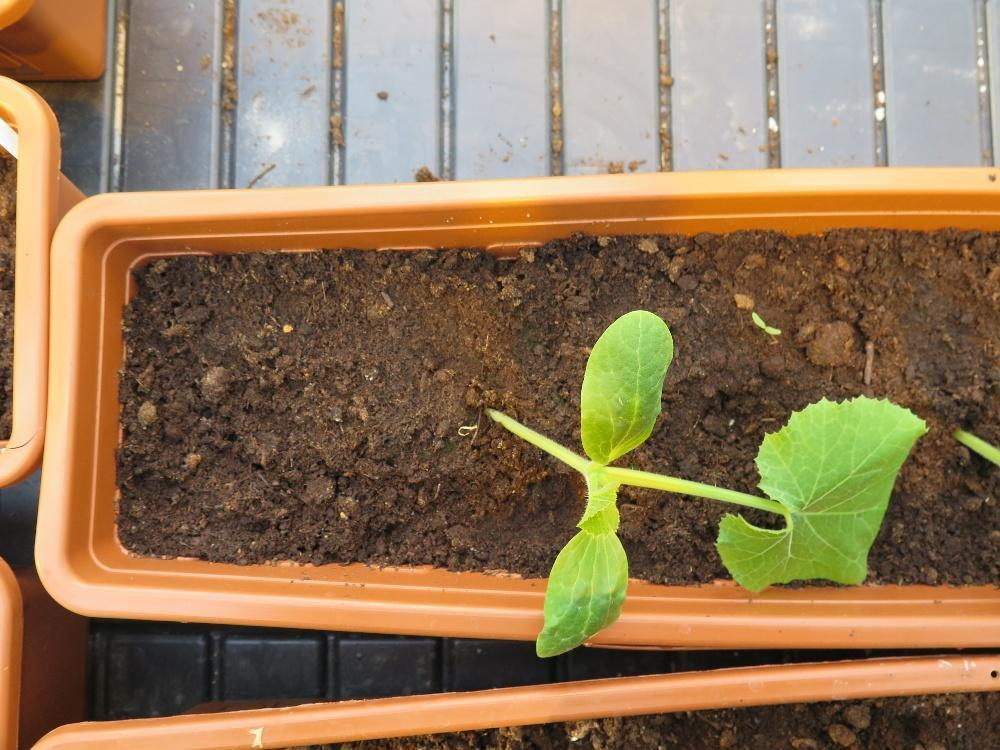weed: (749, 310, 781, 334)
